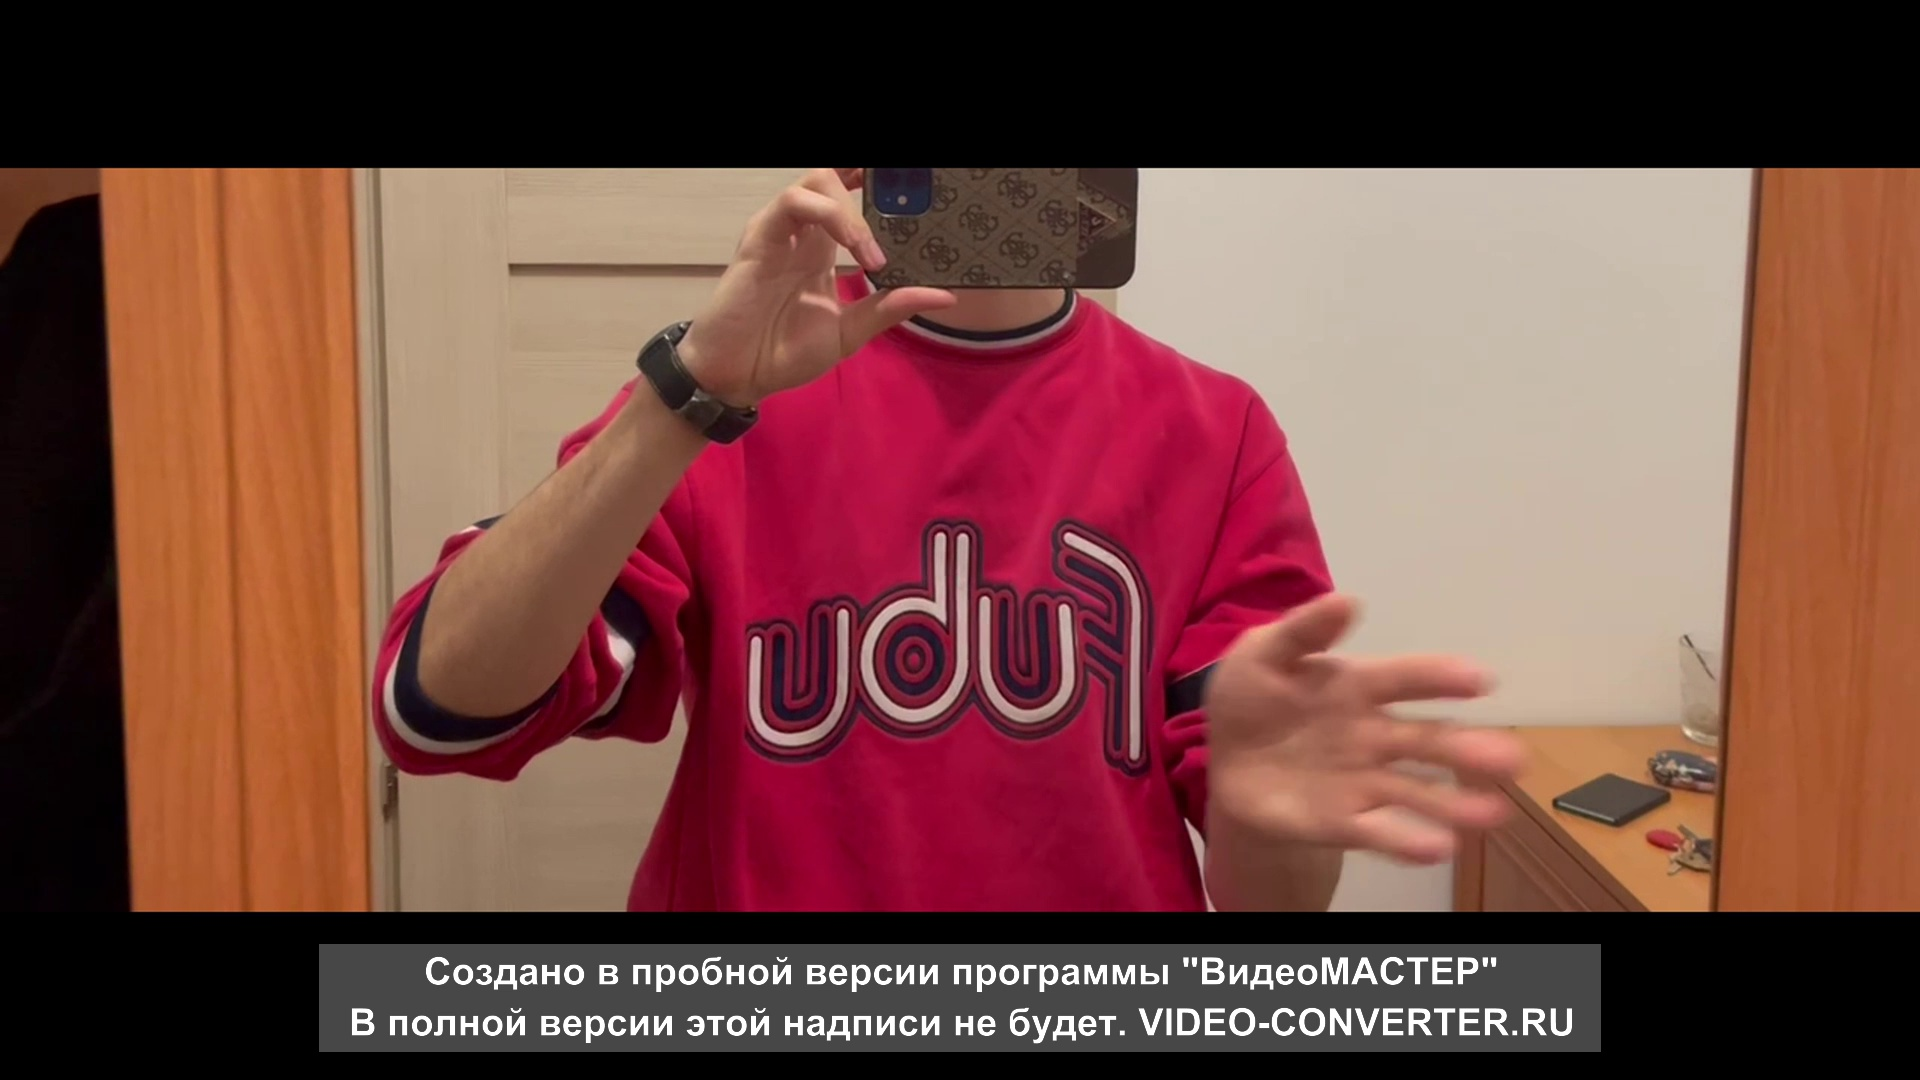Ладонь: (1205, 592, 1528, 865)
